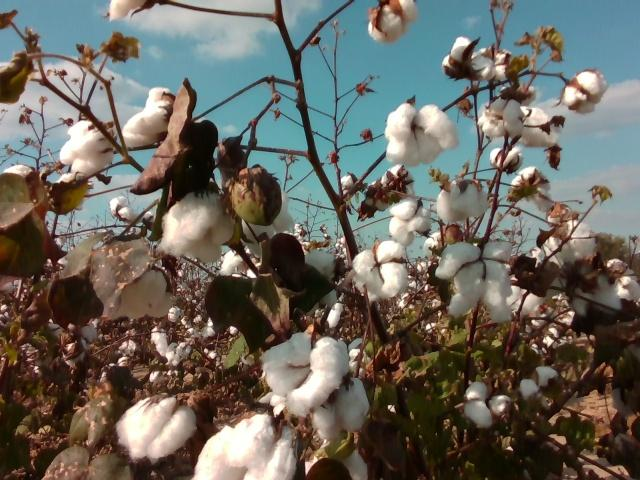cotton_ready: (259, 335, 348, 416), (194, 414, 296, 480), (436, 239, 516, 323), (158, 189, 237, 264), (116, 392, 199, 461), (386, 103, 461, 168), (573, 258, 640, 318), (241, 191, 297, 259), (314, 376, 371, 442), (507, 264, 571, 315), (122, 87, 177, 146), (353, 240, 407, 298), (59, 121, 114, 177), (443, 36, 511, 79), (304, 438, 371, 480), (535, 221, 594, 266), (301, 252, 340, 315), (437, 181, 489, 226), (366, 166, 415, 212), (368, 0, 417, 45), (467, 379, 507, 428), (564, 71, 606, 116), (389, 199, 430, 243), (479, 99, 524, 139), (511, 168, 552, 210), (517, 107, 559, 147), (0, 164, 43, 192), (521, 365, 559, 395), (108, 0, 153, 22), (490, 147, 523, 172)
